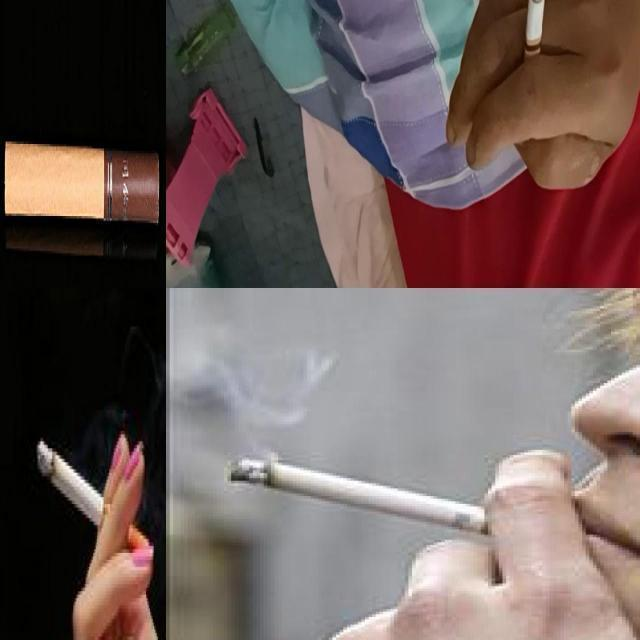rokok: (228, 457, 570, 548), (36, 437, 150, 563), (5, 138, 159, 224), (521, 0, 549, 98)
